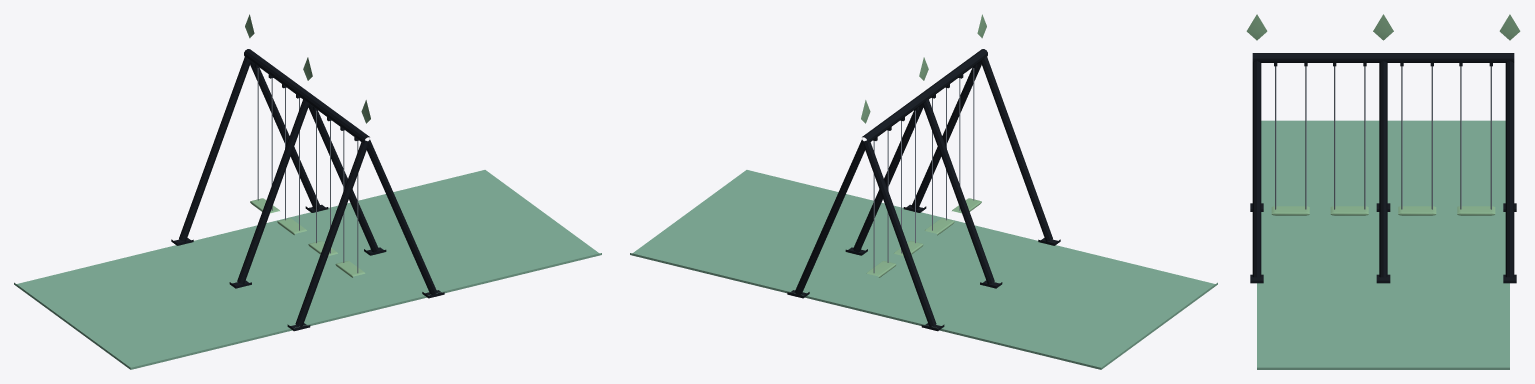
3 views of the same model, side by side, from view 1: azimuth 30°, elevation 25°; view 2: azimuth 150°, elevation 25°; view 3: azimuth 270°, elevation 25° (orthographic). The views are drawn at different scales.
Visible parts, largest first — view 1: Safety_Pad, Swing_Frame, Swing1_Chains; view 2: Safety_Pad, Swing_Frame, Swing4_Chains; view 3: Safety_Pad, Swing_Frame, Leaf_Crests, Swing1_Chains, Swing2_Chains, Swing3_Chains, Swing4_Chains, Swing1_Seat, Swing2_Seat, Swing3_Seat, Swing4_Seat.
Boxes of the visible parts, x1,y1,x2,y2 form: Safety_Pad: (14, 170, 601, 369); Swing_Frame: (171, 49, 444, 331); Swing1_Chains: (257, 68, 272, 210); Safety_Pad: (630, 170, 1217, 369); Swing_Frame: (787, 49, 1060, 331); Swing4_Chains: (959, 68, 974, 210); Safety_Pad: (1257, 120, 1509, 369); Swing_Frame: (1250, 53, 1516, 283); Leaf_Crests: (1246, 14, 1520, 40); Swing1_Chains: (1460, 66, 1491, 209); Swing2_Chains: (1401, 66, 1432, 209); Swing3_Chains: (1334, 66, 1365, 209); Swing4_Chains: (1275, 66, 1306, 209); Swing1_Seat: (1457, 206, 1495, 215); Swing2_Seat: (1398, 206, 1436, 215); Swing3_Seat: (1330, 206, 1368, 215); Swing4_Seat: (1271, 206, 1309, 215).
Size of what is drawn, in the model's own units: 7 by 3.03 by 3.25.
Materials: 4 (2 with a texture image).
